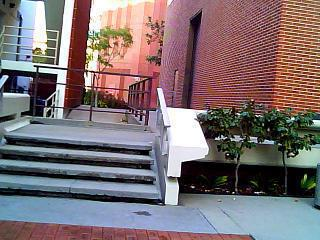Escaleras: (6, 130, 161, 202)
